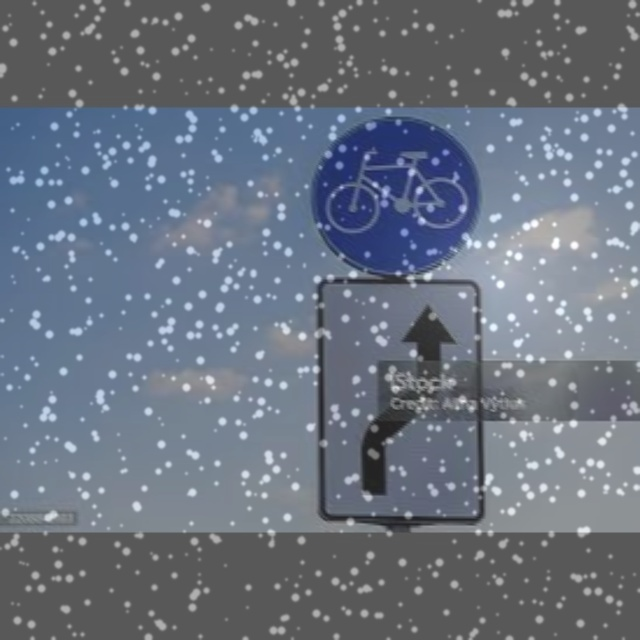Compulsory_Cycle_Track: (311, 118, 484, 274)
